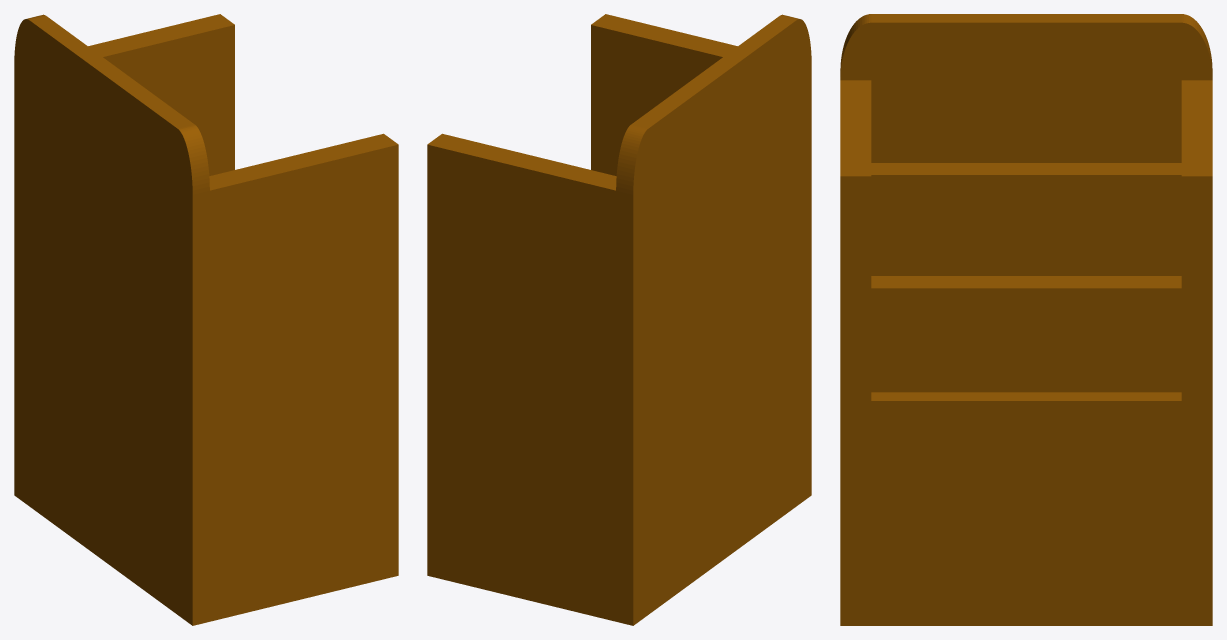
The model's file is Library_BookShell.fbx.
3 views of the same model, side by side, from view 1: azimuth 30°, elevation 25°; view 2: azimuth 150°, elevation 25°; view 3: azimuth 270°, elevation 25° (orthographic). The views are drawn at different scales.
Visible parts, largest first — view 1: Cube.002, Cube.003, Cube.001; view 2: Cube.003, Cube.001, Cube.002, Cube; view 3: Cube.005, Cube.003, Cube.006, Cube.007, Cube.001, Cube.002.
Boxes of the visible parts, x1=… form: Cube.002: x1=192, y1=133, x2=398, y2=625; Cube.003: x1=14, y1=14, x2=209, y2=625; Cube.001: x1=88, y1=14, x2=234, y2=175; Cube.003: x1=616, y1=14, x2=811, y2=625; Cube.001: x1=427, y1=133, x2=616, y2=621; Cube.002: x1=591, y1=14, x2=737, y2=175; Cube: x1=591, y1=25, x2=607, y2=173; Cube.005: x1=871, y1=392, x2=1181, y2=625; Cube.003: x1=840, y1=14, x2=1212, y2=162; Cube.006: x1=871, y1=276, x2=1181, y2=392; Cube.007: x1=871, y1=163, x2=1181, y2=275; Cube.001: x1=1181, y1=80, x2=1212, y2=625; Cube.002: x1=840, y1=80, x2=871, y2=625.
Bounding box in the file's own units: 200 × 451 × 300.
